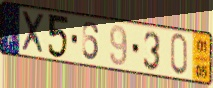0: (169, 32, 189, 78)
3: (142, 30, 162, 72)
5: (46, 13, 71, 61)
6: (81, 21, 100, 63)
9: (109, 24, 128, 69)
X: (20, 10, 46, 57)
